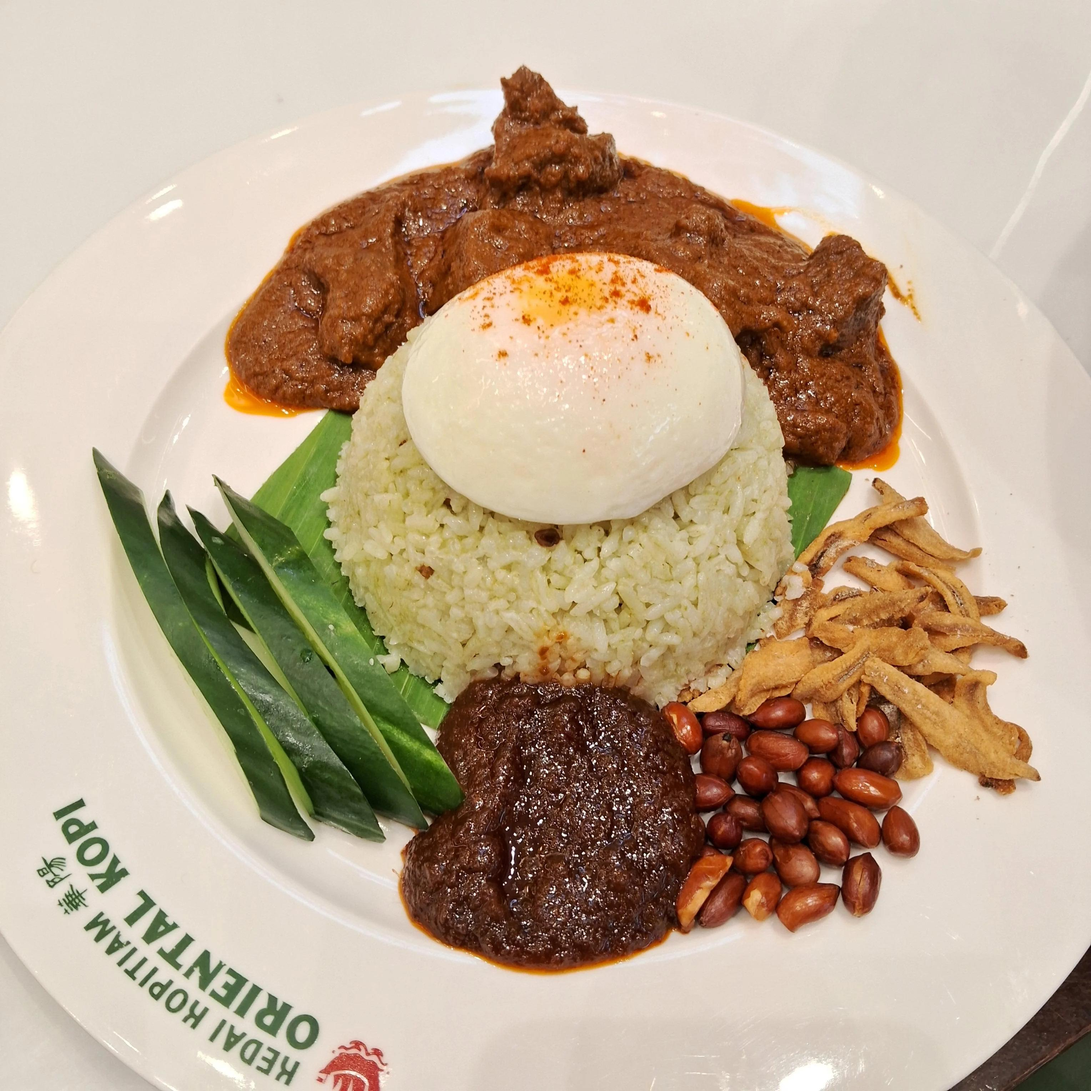Anchovies: (689, 494, 1040, 794)
Boiled-Egg: (402, 255, 742, 524)
Cucumber: (92, 451, 464, 845)
Peanuts: (663, 699, 920, 934)
Rendang-Chicken: (225, 65, 907, 474)
Rice: (323, 344, 793, 704)
Sambal: (397, 682, 687, 966)
